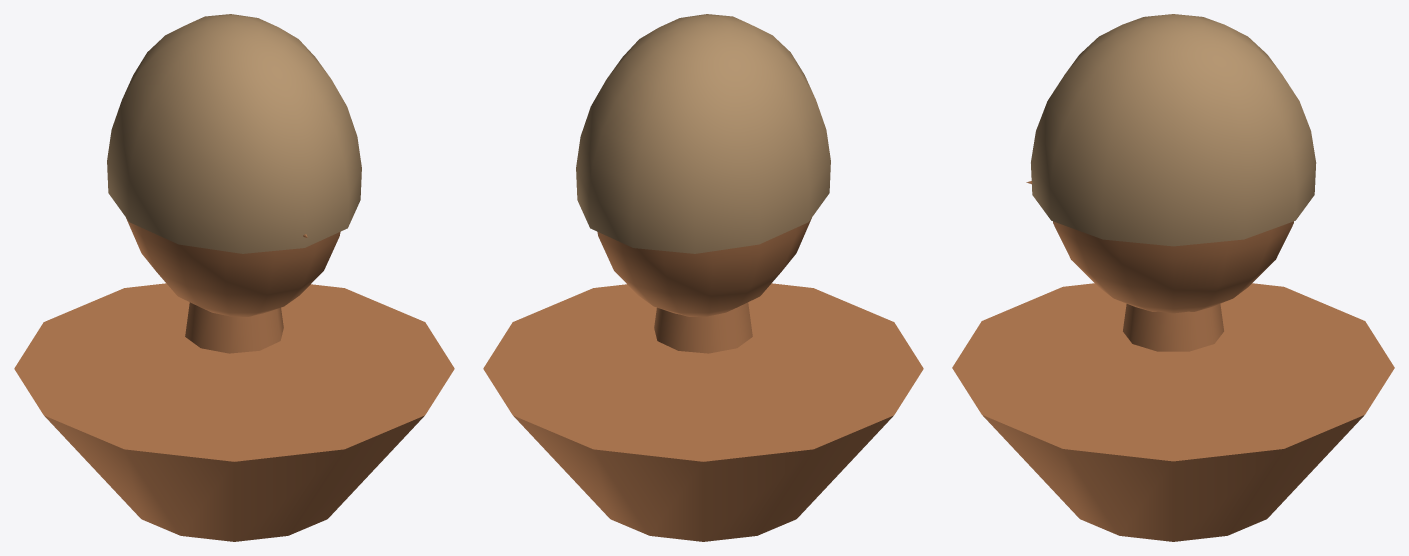
File: portrait12m_003.glb
3 views of the same model, side by side, from view 1: azimuth 30°, elevation 25°; view 2: azimuth 150°, elevation 25°; view 3: azimuth 270°, elevation 25° (orthographic).
Bounding box in the file's own units: 1.83 × 2.17 × 1.83.
